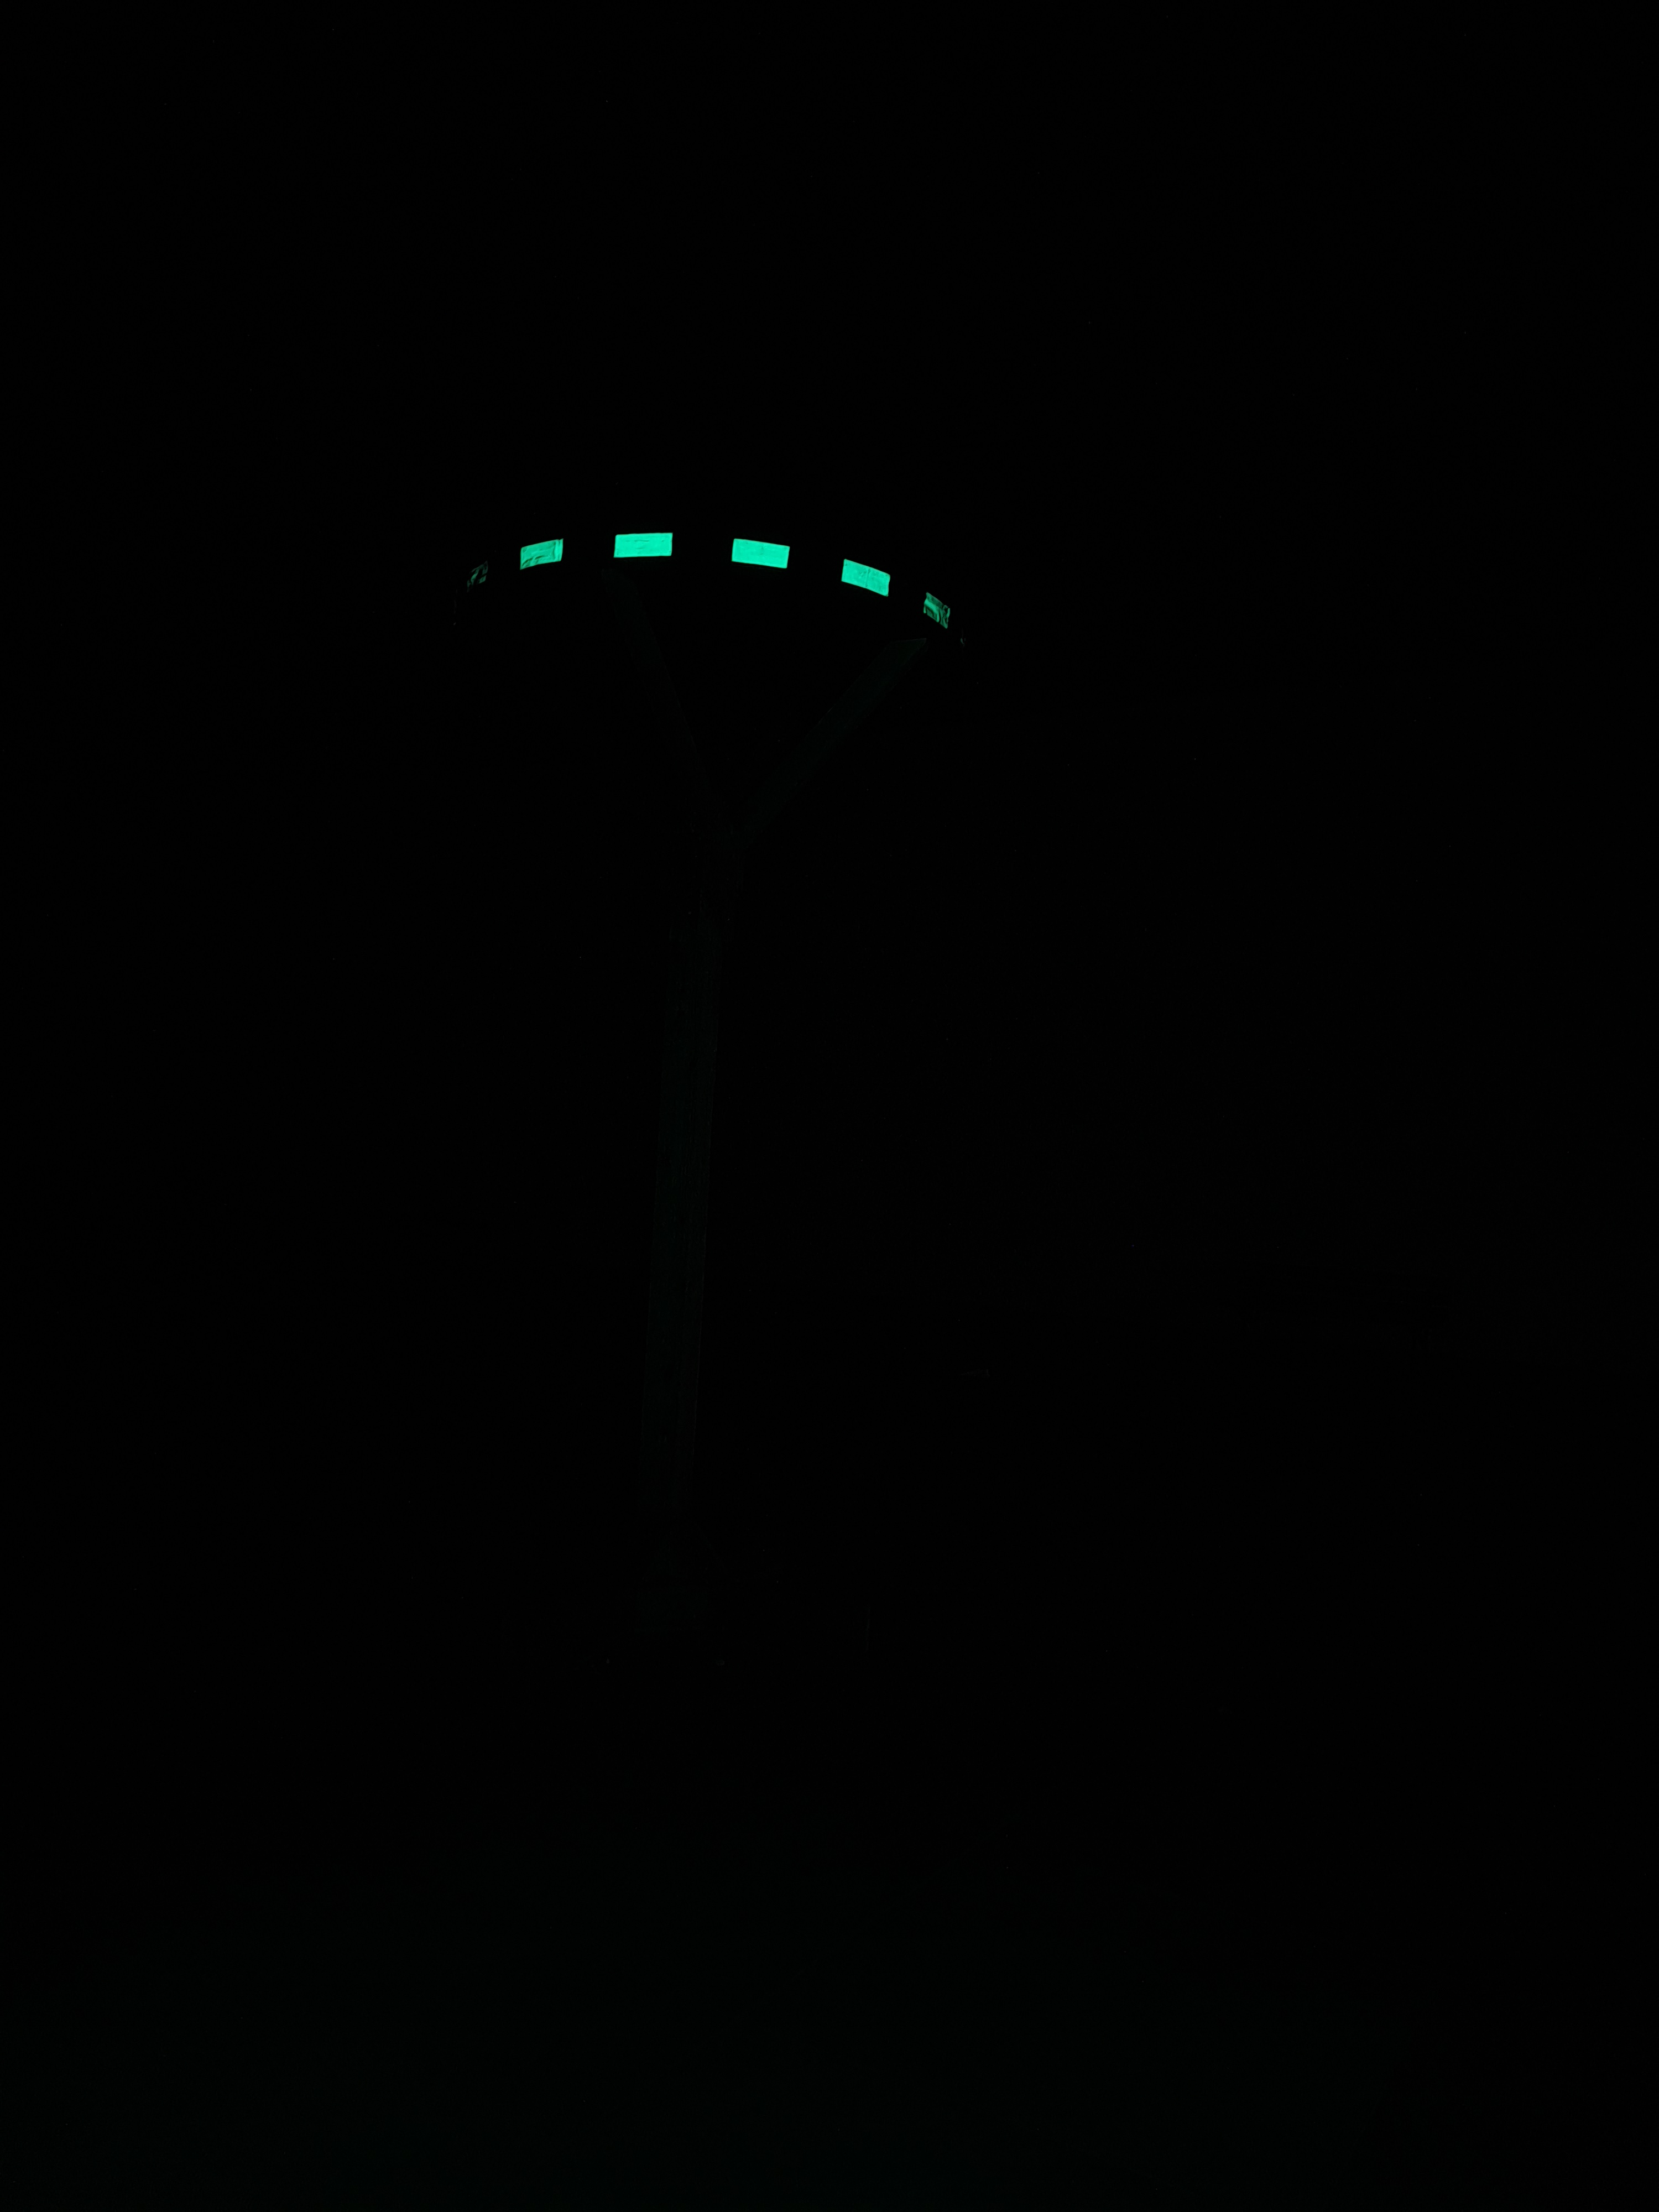hoop: (457, 496, 972, 676)
